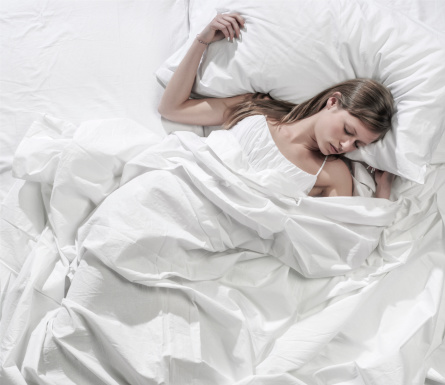deitado: (9, 33, 441, 377)
